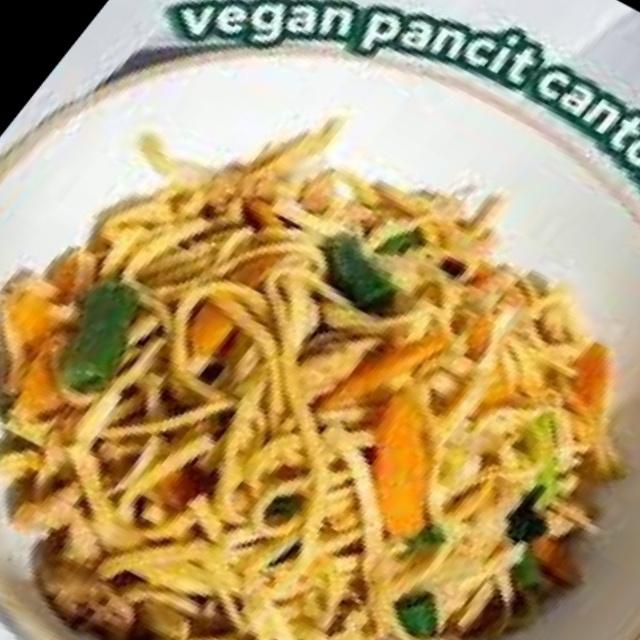pancit bihon: (1, 154, 615, 639)
